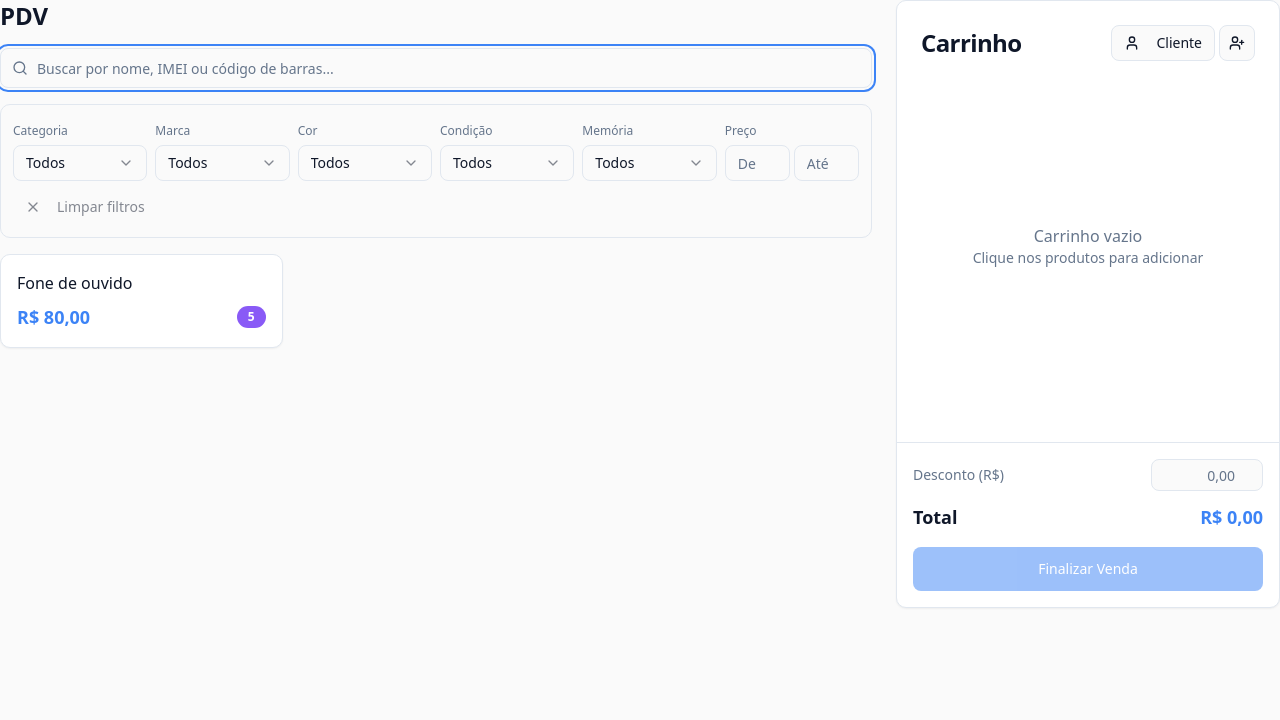
PDV: depois de fechar a venda › "Nova venda" fecha a janela e o PDV continua lá
Step 1. Click the text "Fone de ouvido" → point(75, 283), box [17,272,132,294]
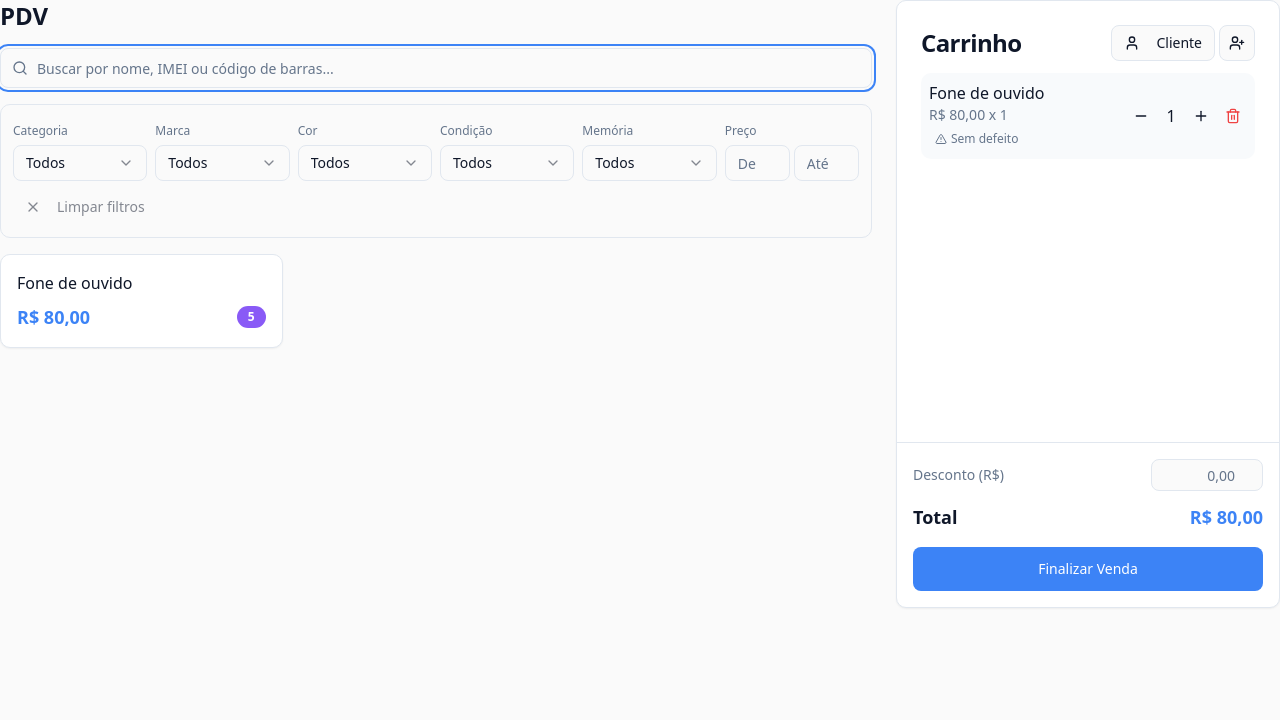
Expected: the button "Finalizar Venda" is enabled
Step 2. Click the button "Finalizar Venda" → point(1088, 569), box [913,547,1263,591]
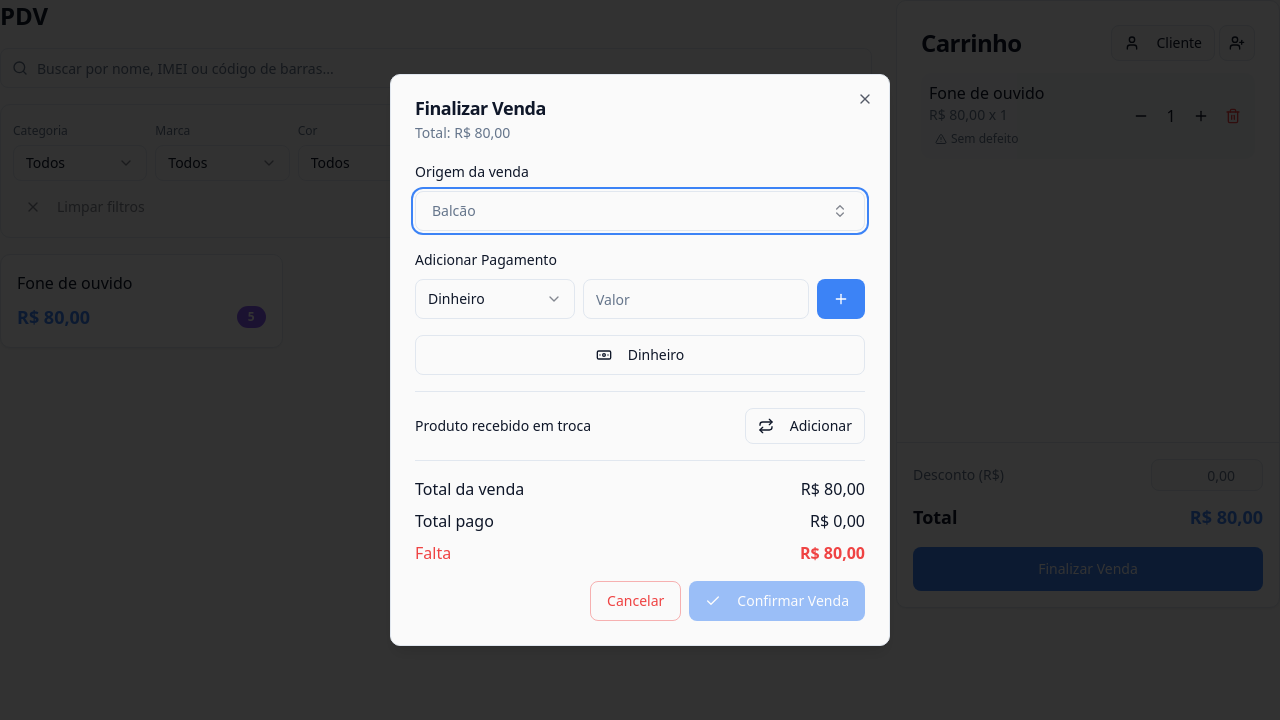
Expected: the text "Adicionar Pagamento" is shown, [415,250,557,269]
Step 3. Type "80" into the number field with placeholder "Valor" → point(696, 299), box [583,279,809,319]
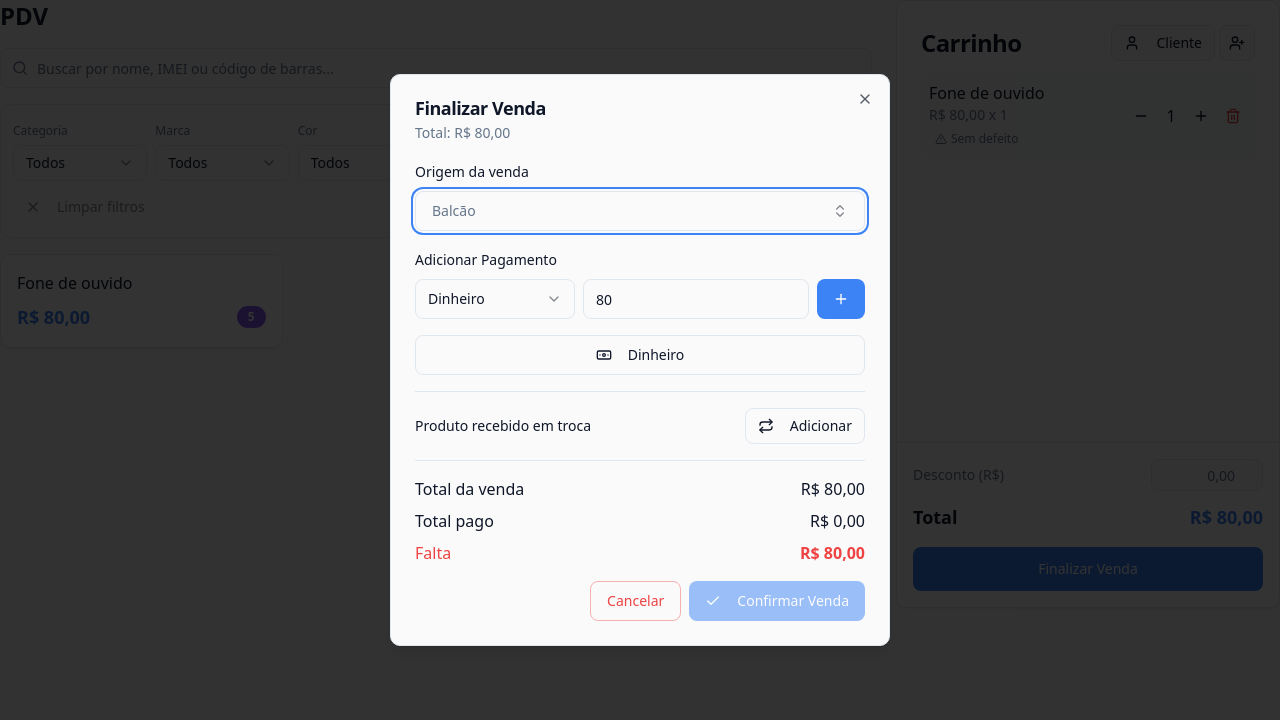
Step 4. Click the 2nd button → point(841, 299), box [817,279,865,319]
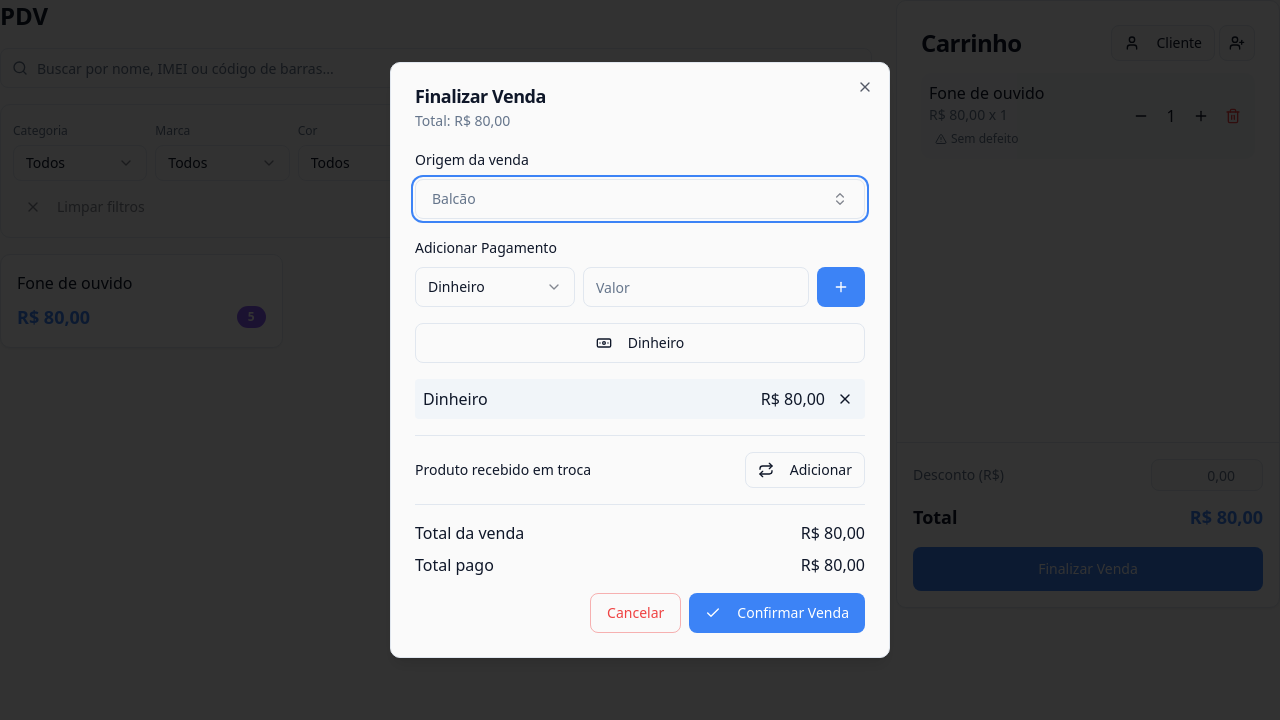
Step 5. Click the button "Confirmar Venda" → point(777, 613), box [689,593,865,633]
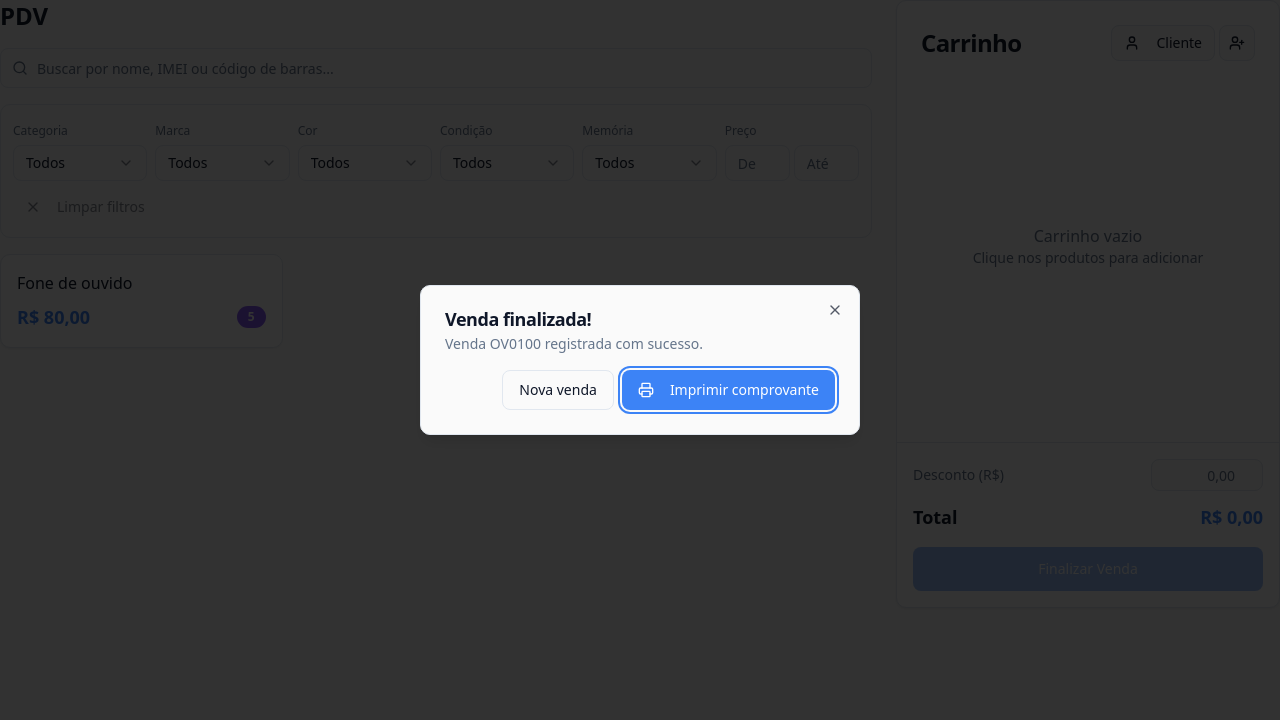
Step 6. Click the button "Nova venda" → point(558, 390), box [502,370,614,410]
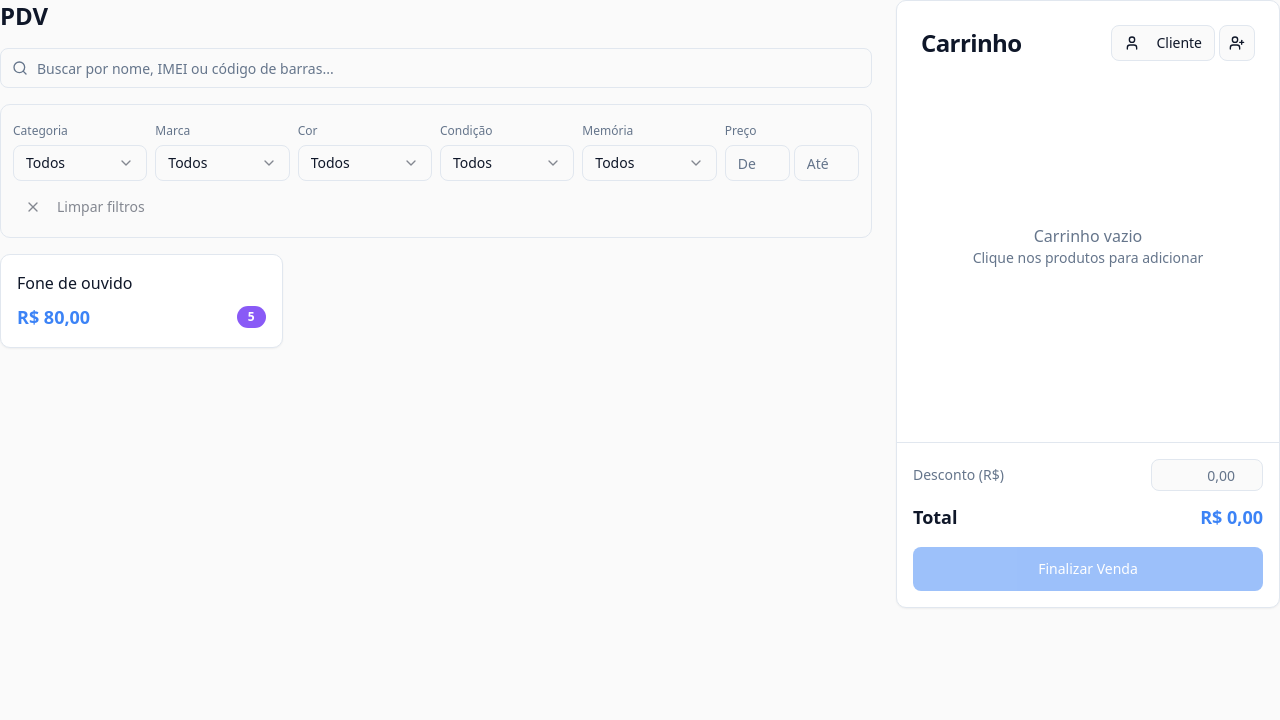
Expected: the text "Carrinho vazio" is shown, [1034,224,1142,248]
Expected: the heading "Venda finalizada!" is gone
